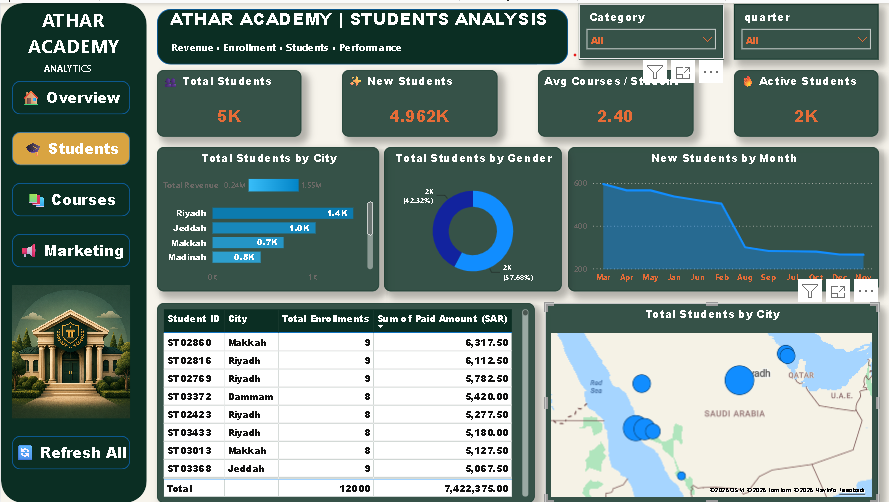

What the dashboard file says about the page in this screenshot:
{"tool":"powerbi","page":{"name":"Students","canvas":[1280,720],"ordinal":2},"visuals":[{"type":"shape","box":[0,0,210,720],"z":0},{"type":"shape","box":[225.3,8,592,80],"z":0,"group":"g2"},{"type":"textbox","box":[0,0,208,96],"z":1000},{"type":"textbox","box":[241.3,0,560,48],"z":1000,"group":"g2"},{"type":"textbox","box":[241.3,48,352,32],"z":2000,"group":"g2"},{"type":"textbox","box":[0,80,192,32],"z":2000},{"type":"shape","box":[16,112,170,48],"z":3000},{"type":"shape","box":[16,185.6,170,48],"z":4000},{"type":"shape","box":[16,259.2,170,48],"z":5000},{"type":"shape","box":[16,332.8,170,48],"z":6000},{"type":"image","box":[16,406.4,170,192],"z":7000},{"type":"shape","box":[16,624,170,48],"z":12000},{"type":"group","id":"g1","title":"Group 1","box":[225.3,0,592,88],"z":13000},{"type":"clusteredBarChart","fields":{"Category":["Students.City"],"Y":["Calender.Total Students"]},"box":[224,208,320,208],"z":14000},{"type":"cardVisual","title":"👥 Total Students","fields":{"Data":["Calender.Total Students"]},"box":[224,96,208,96],"z":15000},{"type":"group","id":"g2","title":"Group 2","box":[225.3,0,592,88],"z":15003,"group":"g1"},{"type":"cardVisual","title":"✨ New Students","fields":{"Data":["Calender.New Students"]},"box":[490.7,96,224,96],"z":16000},{"type":"cardVisual","title":"Avg Courses / Student","fields":{"Data":["Calender.Avg Courses Per Student"]},"box":[773.3,96,224,96],"z":17000},{"type":"cardVisual","title":"🔥 Active Students","fields":{"Data":["Calender.Active Students"]},"box":[1056,96,208,96],"z":18000},{"type":"slicer","fields":{"Values":["Courses.Category"]},"box":[832.7,1.3,208,80],"z":19000},{"type":"slicer","fields":{"Values":["Calender.quarter"]},"box":[1056,1.3,208,80],"z":20000},{"type":"stackedAreaChart","fields":{"Category":["Calender.Month"],"Y":["Calender.New Students"]},"box":[816,208,448,208],"z":21000},{"type":"donutChart","fields":{"Category":["Students.Gender"],"Y":["Calender.Total Students"]},"box":[552,208,256,208],"z":22000},{"type":"tableEx","fields":{"Values":["Students.Student ID","Students.City","Calender.Total Enrollments","Sum(Enrollments.Paid Amount (SAR))"]},"box":[224,432,544,288],"z":23000},{"type":"azureMap","fields":{"Category":["Students.City"],"Size":["Calender.Total Students"]},"box":[784,432,480,288],"z":24000}]}

Visuals, with their boxes in screenshot pixels (x1, y1, x2, y2), scaled from the page's 1280x720 canvas onto the 889x502 screenshot:
shape: select_region(0, 0, 146, 501)
shape: select_region(156, 6, 568, 61)
textbox: select_region(0, 0, 144, 67)
textbox: select_region(168, 0, 557, 33)
textbox: select_region(168, 33, 412, 56)
textbox: select_region(0, 56, 133, 78)
shape: select_region(11, 78, 129, 112)
shape: select_region(11, 129, 129, 163)
shape: select_region(11, 181, 129, 214)
shape: select_region(11, 232, 129, 266)
image: select_region(11, 283, 129, 417)
shape: select_region(11, 435, 129, 469)
"Group 1" group: select_region(156, 0, 568, 61)
clusteredBarChart - Students.City x Calender.Total Students: select_region(156, 145, 378, 290)
"👥 Total Students" cardVisual: select_region(156, 67, 300, 134)
"Group 2" group: select_region(156, 0, 568, 61)
"✨ New Students" cardVisual: select_region(341, 67, 496, 134)
"Avg Courses / Student" cardVisual: select_region(537, 67, 693, 134)
"🔥 Active Students" cardVisual: select_region(733, 67, 878, 134)
slicer - Courses.Category: select_region(578, 1, 723, 57)
slicer - Calender.quarter: select_region(733, 1, 878, 57)
stackedAreaChart - Calender.Month x Calender.New Students: select_region(567, 145, 878, 290)
donutChart - Students.Gender x Calender.Total Students: select_region(383, 145, 561, 290)
tableEx - Students.Student ID x Students.City: select_region(156, 301, 533, 501)
azureMap - Students.City x Calender.Total Students: select_region(545, 301, 878, 501)
